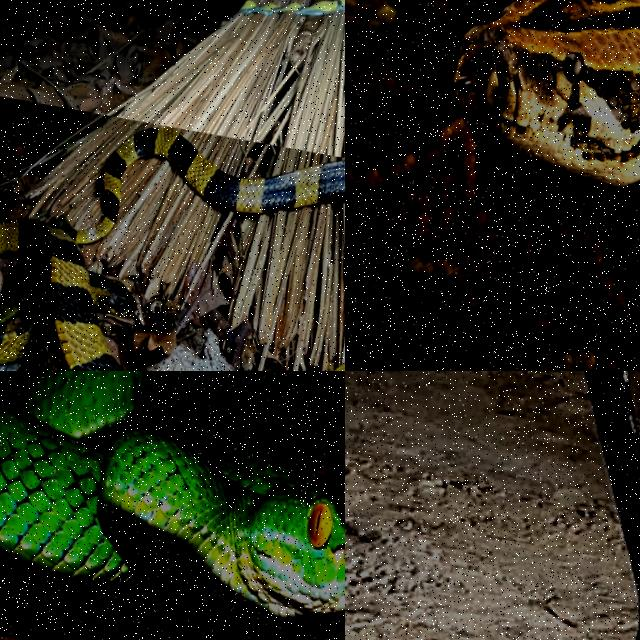Bungarus fasciatus: (0, 129, 344, 370)
Ophiophagus hannah: (586, 371, 639, 594)
Python bivittatus: (345, 0, 639, 370)
Trimeresurus macrops: (0, 371, 344, 622)
